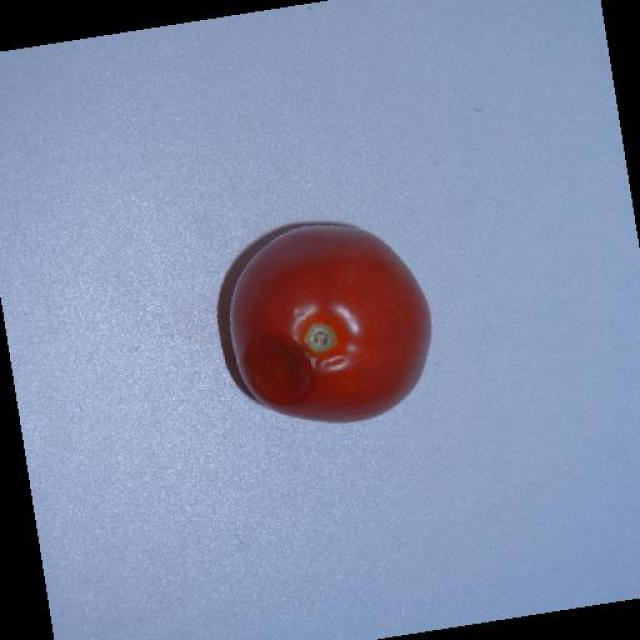Stale_tomato: (227, 222, 411, 432)
